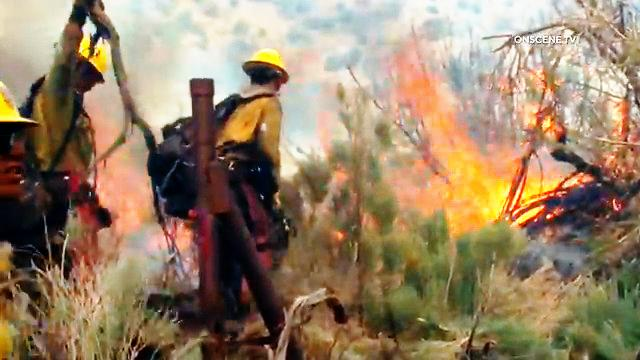fire: (402, 72, 567, 227)
